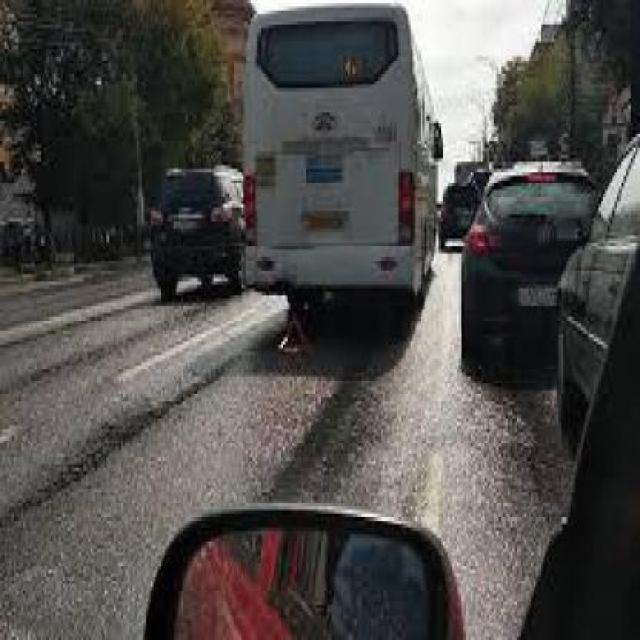bus: (242, 5, 423, 315)
car: (464, 164, 600, 378), (152, 167, 235, 298)
